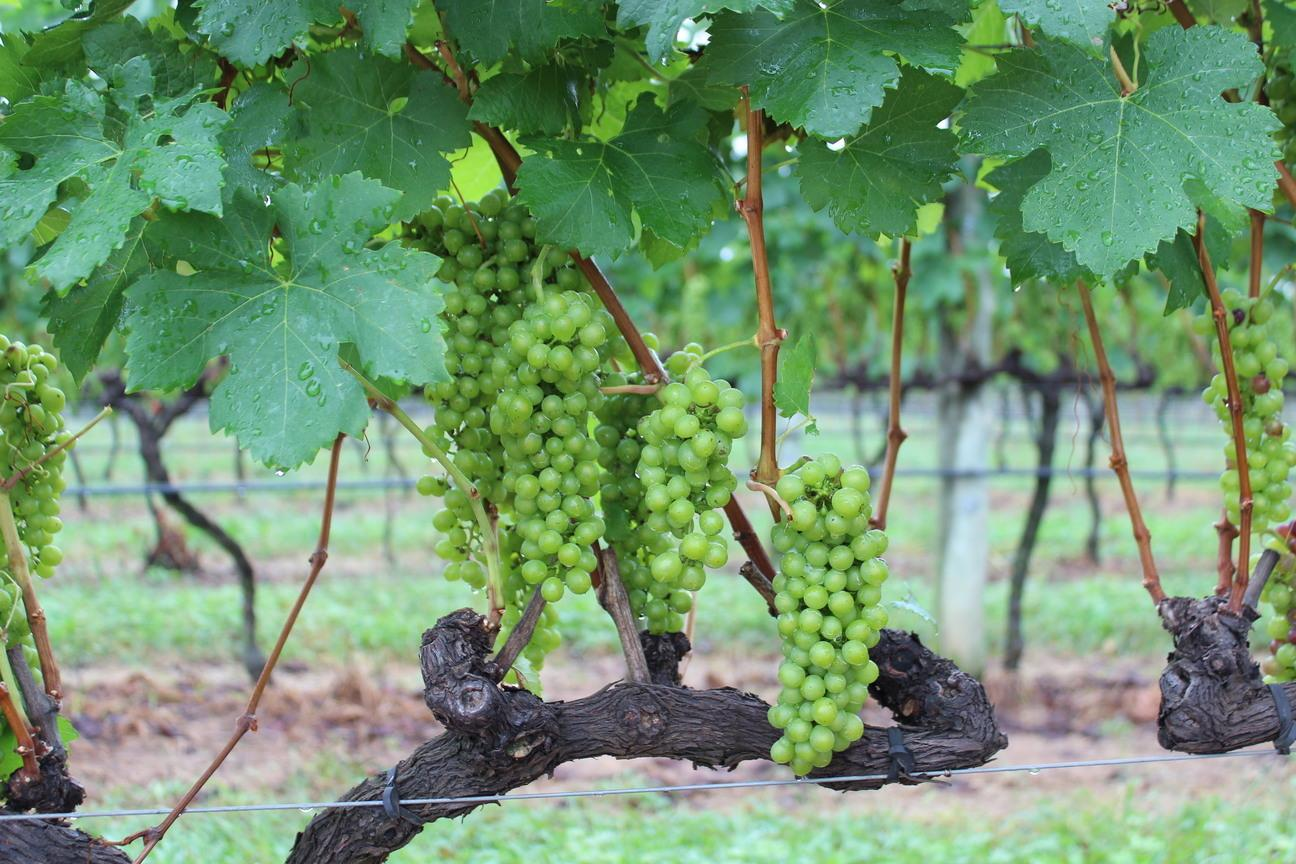leaf: (126, 174, 444, 467), (960, 27, 1275, 274), (0, 58, 226, 288), (704, 0, 960, 137), (517, 94, 726, 256), (284, 48, 469, 217), (796, 67, 961, 233), (42, 217, 159, 379), (984, 148, 1092, 283), (616, 0, 791, 63), (436, 0, 604, 63), (467, 63, 579, 135), (997, 0, 1114, 55), (772, 333, 816, 433)
